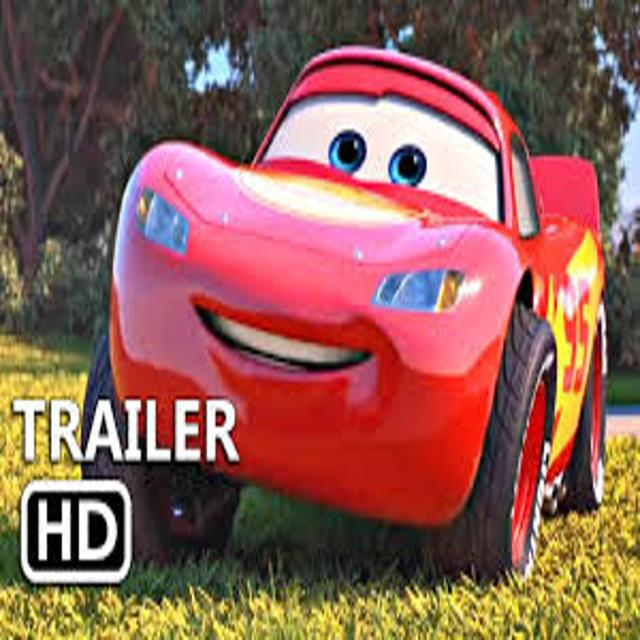car: (83, 48, 605, 575)
